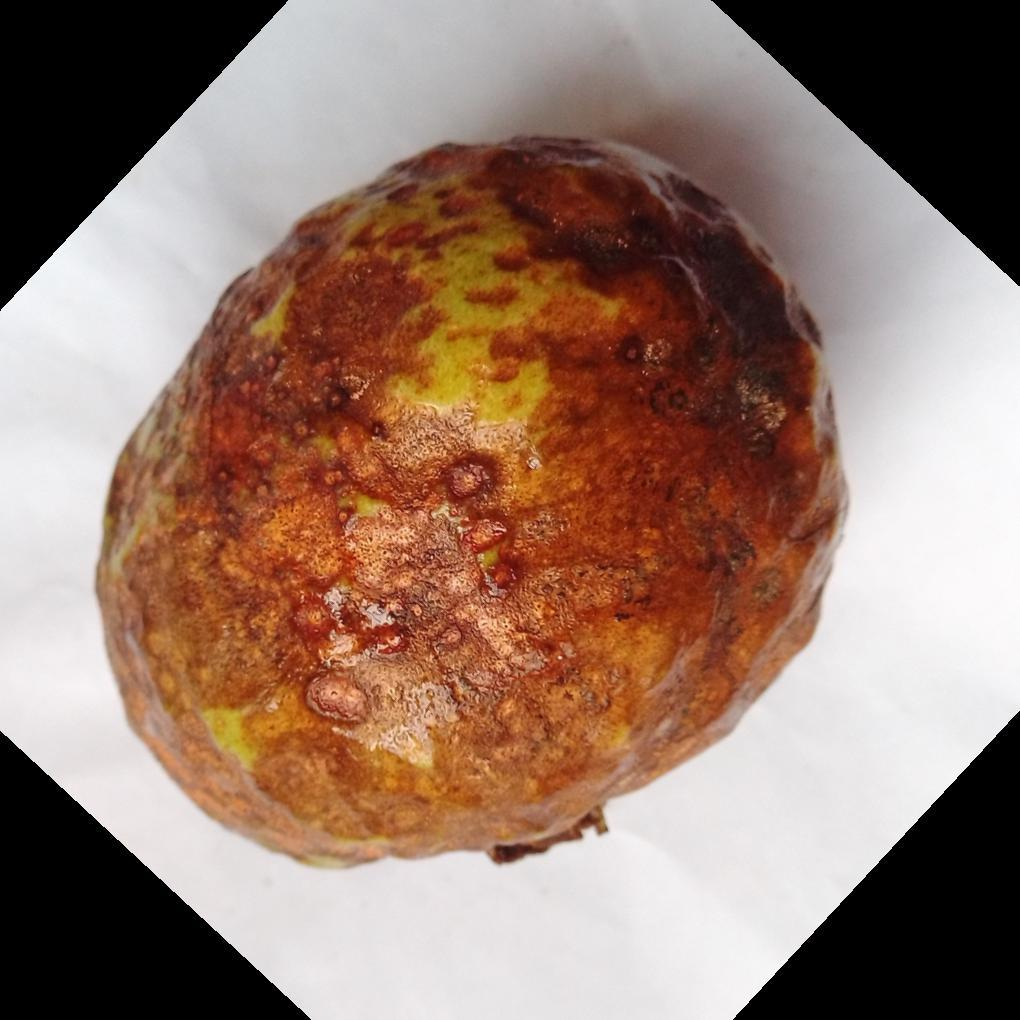FreshOrange: (91, 136, 850, 874)
